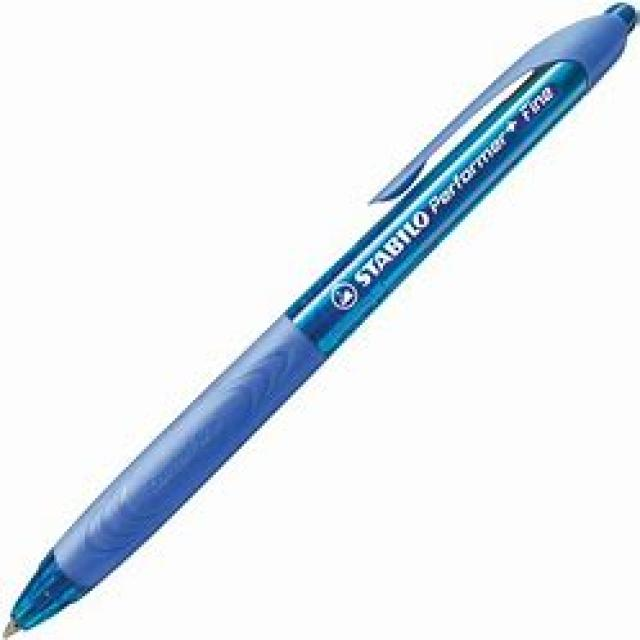pen: (0, 0, 637, 638)
